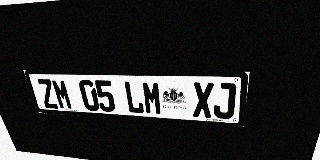0: (78, 80, 100, 111)
5: (94, 80, 116, 112)
J: (213, 83, 237, 119)
L: (123, 81, 145, 114)
M: (142, 81, 163, 115), (51, 79, 74, 110)
X: (193, 82, 214, 118)
Z: (36, 79, 59, 109)
